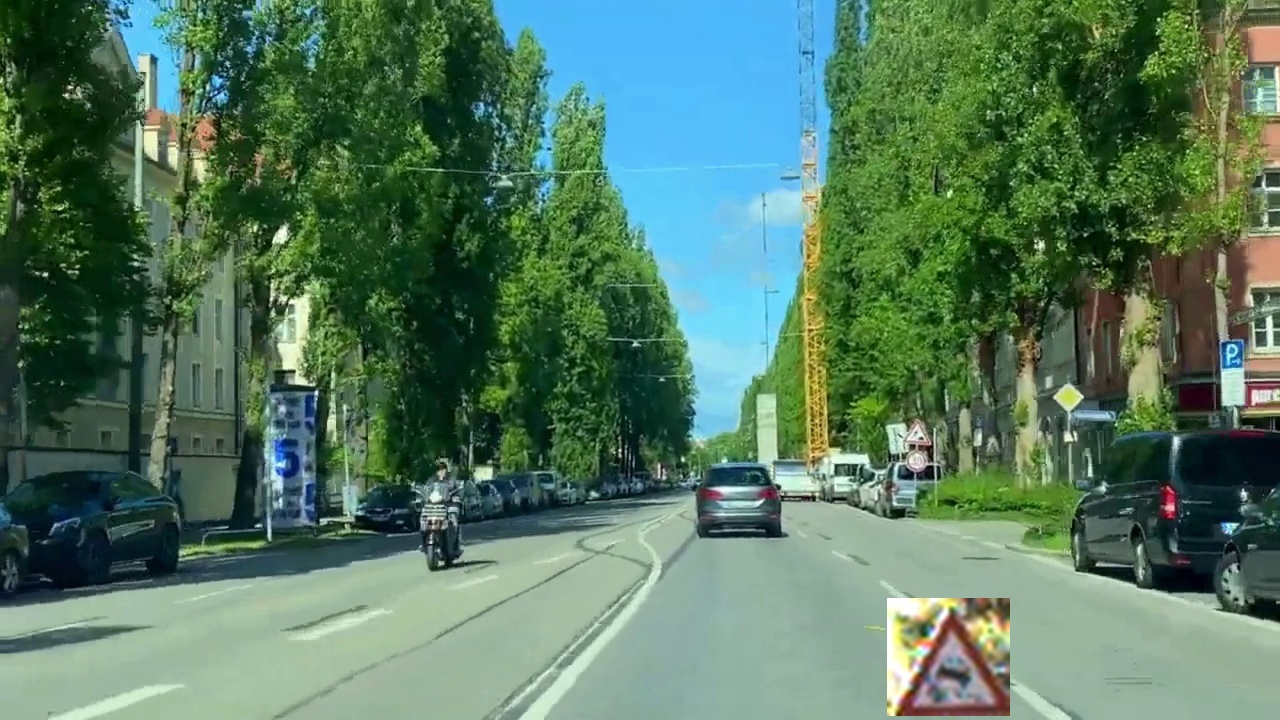Slippery: (887, 598, 1010, 716)
